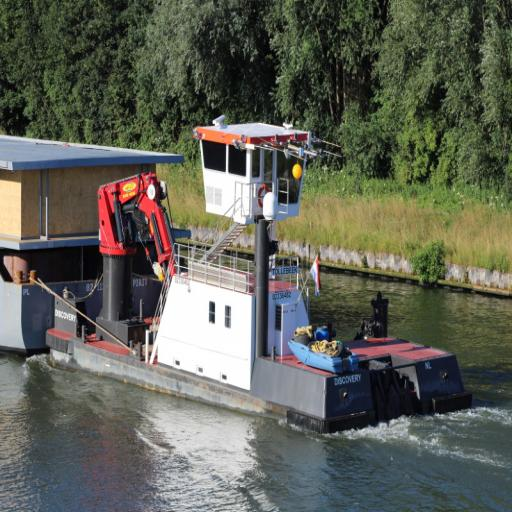tugboat: (43, 110, 475, 452)
